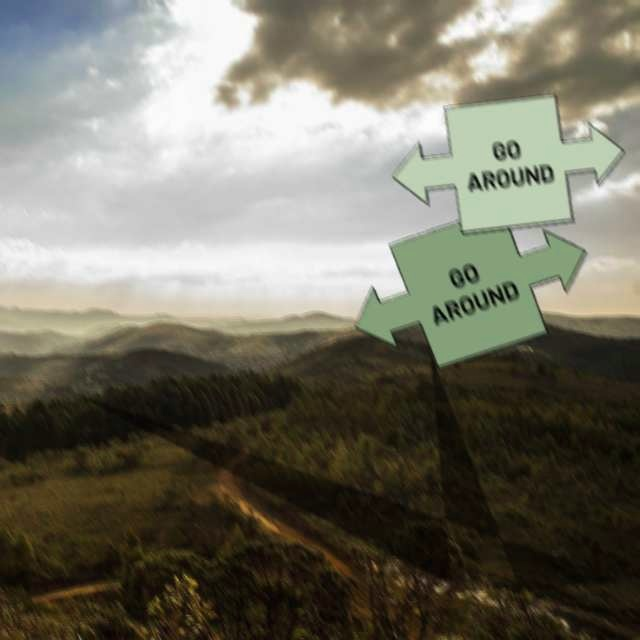GO_AROUND: (355, 205, 588, 368), (393, 93, 626, 233)
